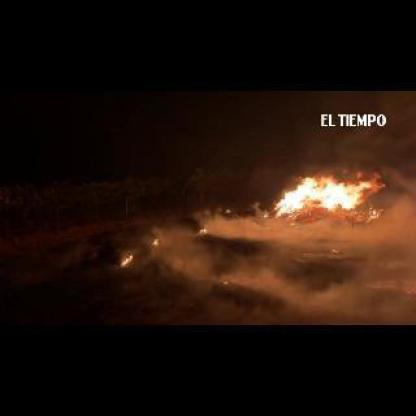fire: (270, 162, 392, 223)
